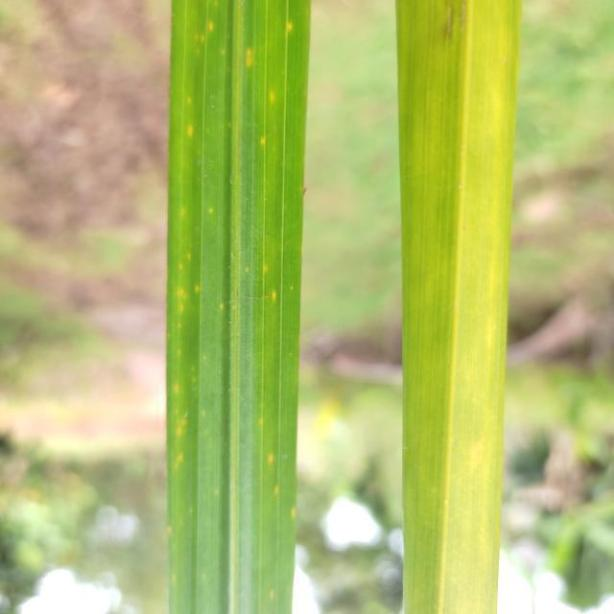nitrogen: (161, 0, 312, 614), (392, 0, 521, 614)
